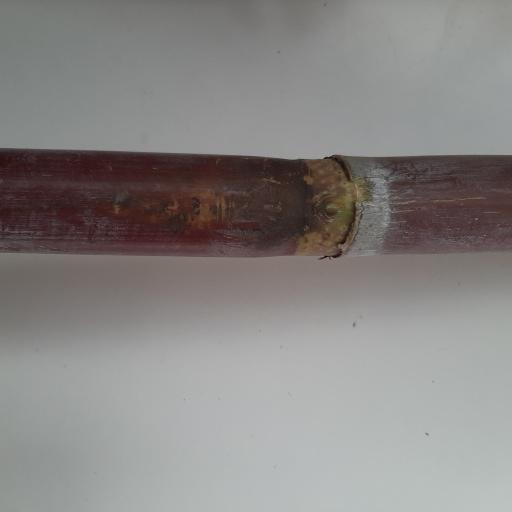Bud: (317, 193, 349, 220)
